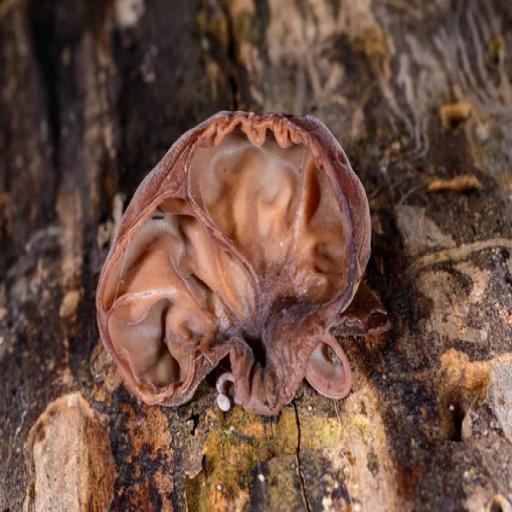Wood Ear Mushroom: (92, 104, 379, 429)
